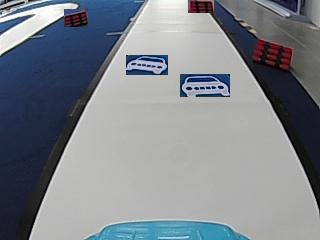bomb: (251, 40, 293, 70)
